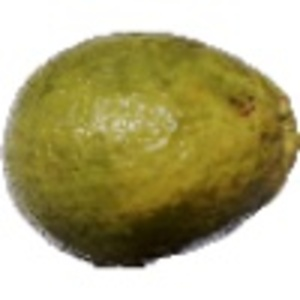goiaba: (4, 26, 292, 268)
